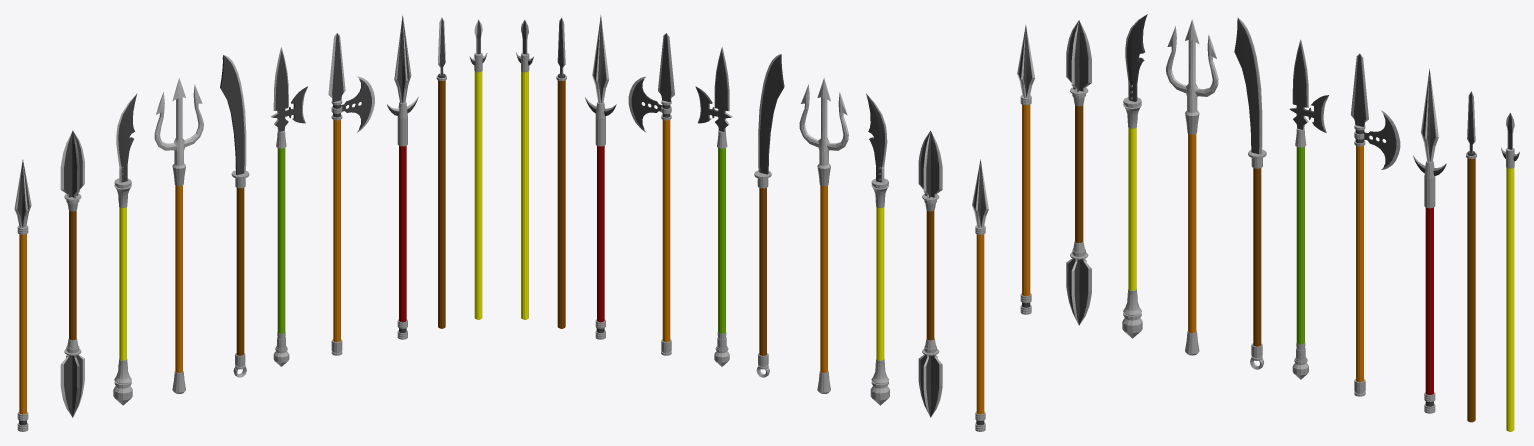
Rendered from Initial_Release.fbx.
3 views of the same model, side by side, from view 1: azimuth 30°, elevation 25°; view 2: azimuth 150°, elevation 25°; view 3: azimuth 330°, elevation 25° (orthographic). The views are drawn at different scales.
Parts seen in each view (by area): view 1: Spear_02, Spear_07, Spear_05, Spear_06, Spear_04, Spear_03, Spear_08, Spear_10, Spear_09, Spear_01; view 2: Spear_02, Spear_07, Spear_04, Spear_05, Spear_06, Spear_03, Spear_08, Spear_09, Spear_01, Spear_10; view 3: Spear_02, Spear_07, Spear_04, Spear_05, Spear_06, Spear_03, Spear_08, Spear_09, Spear_10, Spear_01.
Part boxes in pixels (left/top/right/bottom): Spear_02: left=60, top=130, right=84, bottom=417; Spear_07: left=328, top=33, right=374, bottom=355; Spear_05: left=220, top=55, right=249, bottom=377; Spear_06: left=270, top=47, right=307, bottom=366; Spear_04: left=154, top=78, right=203, bottom=393; Spear_03: left=113, top=93, right=137, bottom=405; Spear_08: left=387, top=15, right=418, bottom=339; Spear_10: left=469, top=19, right=487, bottom=319; Spear_09: left=436, top=17, right=446, bottom=328; Spear_01: left=14, top=159, right=31, bottom=431; Spear_02: left=918, top=130, right=942, bottom=417; Spear_07: left=628, top=33, right=674, bottom=355; Spear_04: left=799, top=78, right=848, bottom=393; Spear_05: left=754, top=54, right=784, bottom=377; Spear_06: left=695, top=47, right=732, bottom=366; Spear_03: left=866, top=93, right=889, bottom=405; Spear_08: left=585, top=15, right=616, bottom=339; Spear_09: left=556, top=17, right=566, bottom=328; Spear_01: left=972, top=159, right=988, bottom=431; Spear_10: left=516, top=20, right=533, bottom=319; Spear_02: left=1066, top=20, right=1091, bottom=325; Spear_07: left=1351, top=53, right=1400, bottom=396; Spear_04: left=1166, top=19, right=1218, bottom=355; Spear_05: left=1234, top=18, right=1266, bottom=369; Spear_06: left=1289, top=39, right=1328, bottom=379; Spear_03: left=1122, top=14, right=1147, bottom=338; Spear_08: left=1413, top=68, right=1446, bottom=413; Spear_09: left=1466, top=91, right=1476, bottom=422; Spear_10: left=1501, top=113, right=1519, bottom=431; Spear_01: left=1017, top=25, right=1034, bottom=314.
Size of the model in its own units: 28.27 by 18.68 by 1.45.
